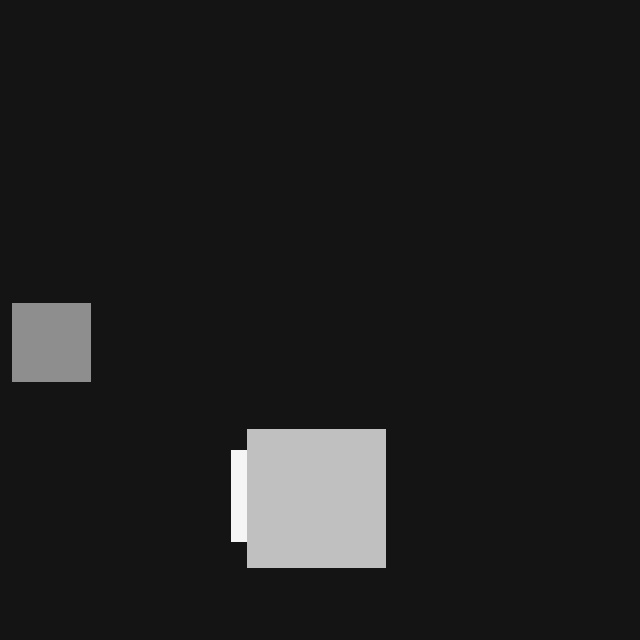square: (247, 429, 385, 567), (231, 450, 322, 541), (12, 303, 90, 381)
